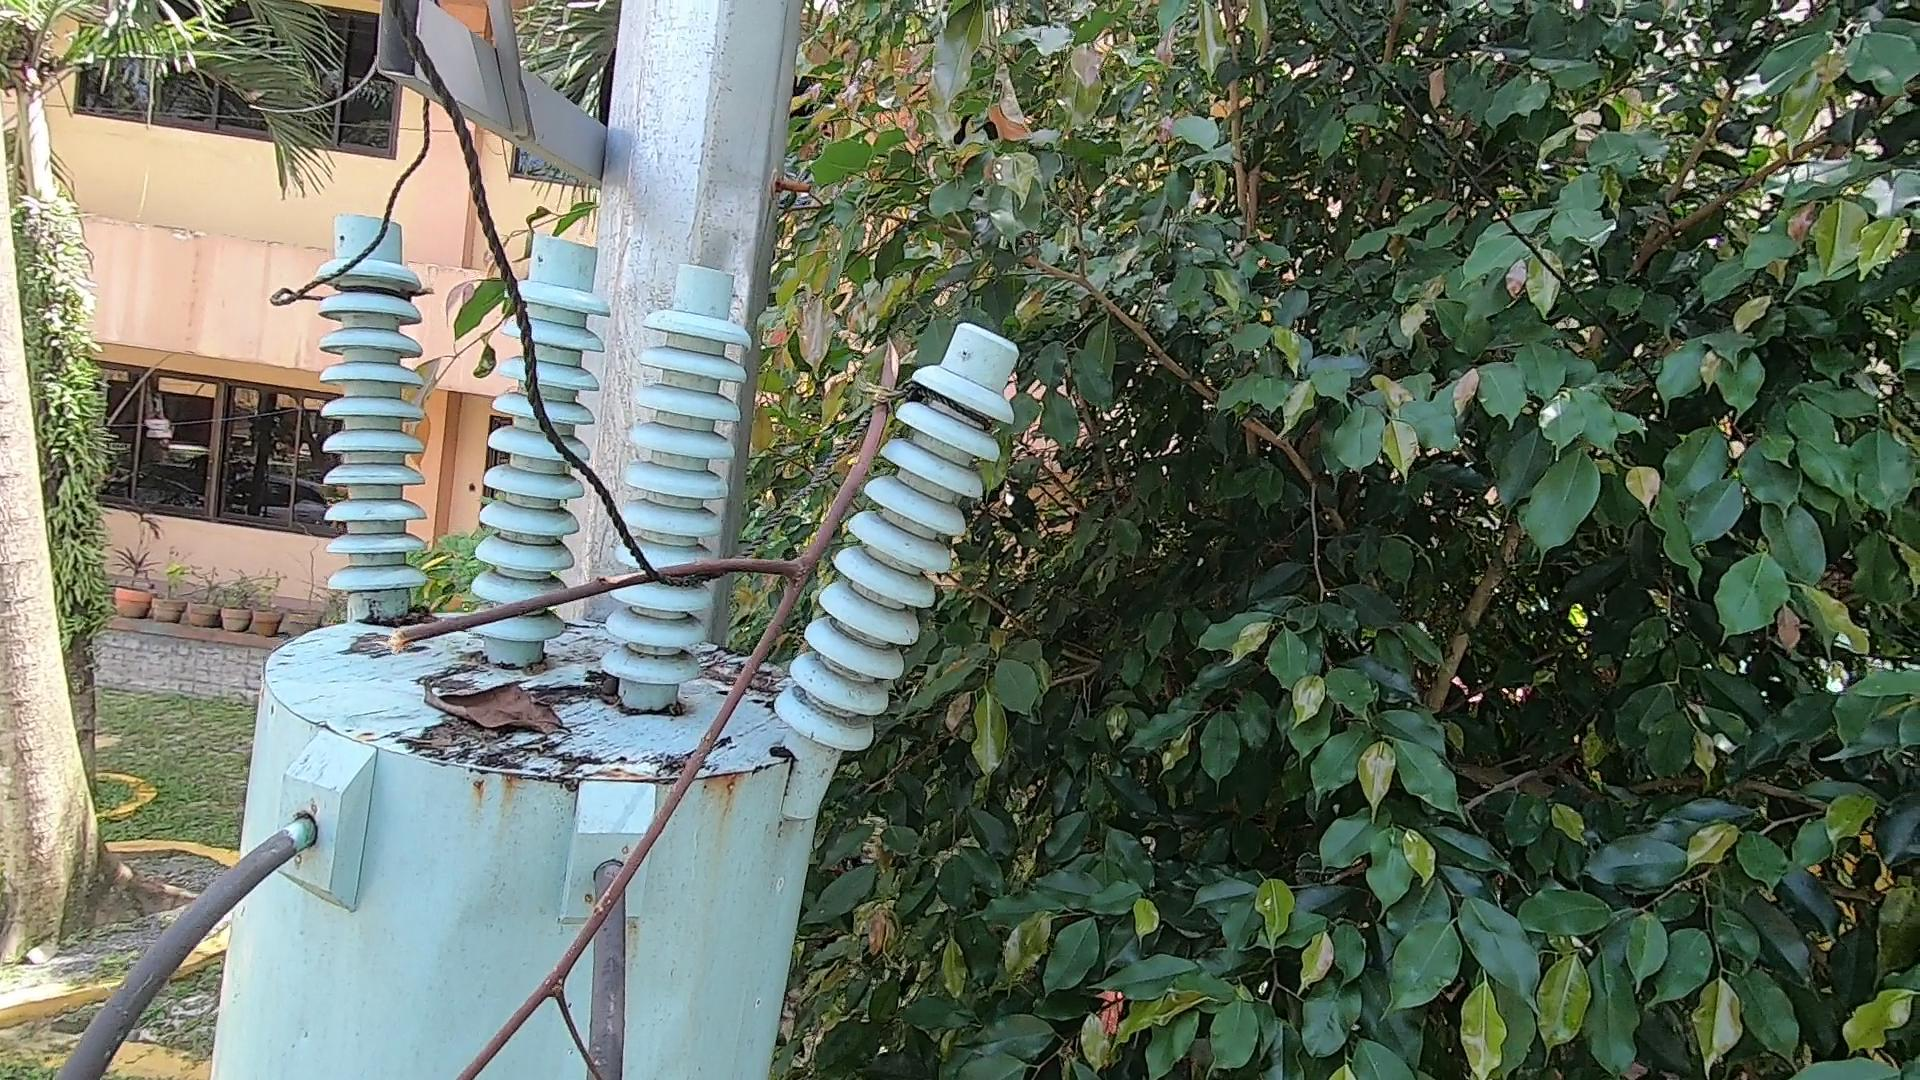leaf: (411, 662, 579, 766)
tree branch: (356, 327, 913, 1080)
